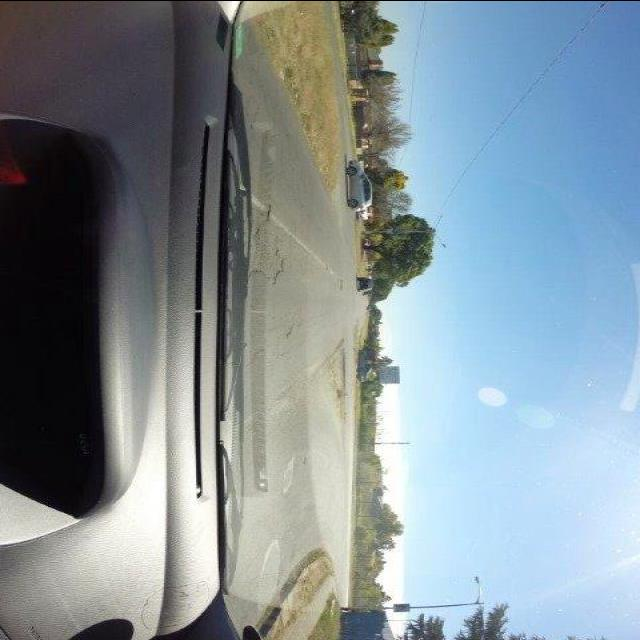lubang: (241, 203, 287, 288)
